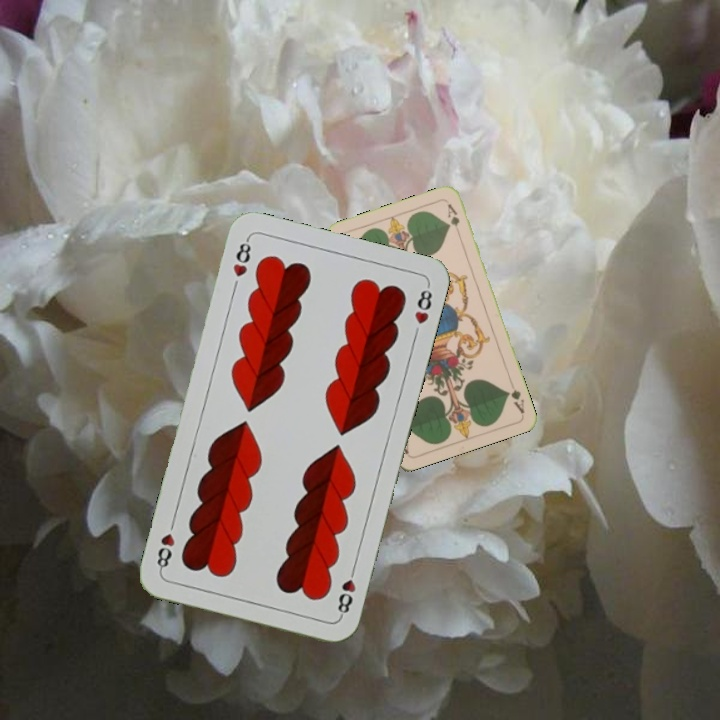GA: (503, 385, 527, 416)
H8: (333, 562, 358, 620), (229, 234, 254, 280)
